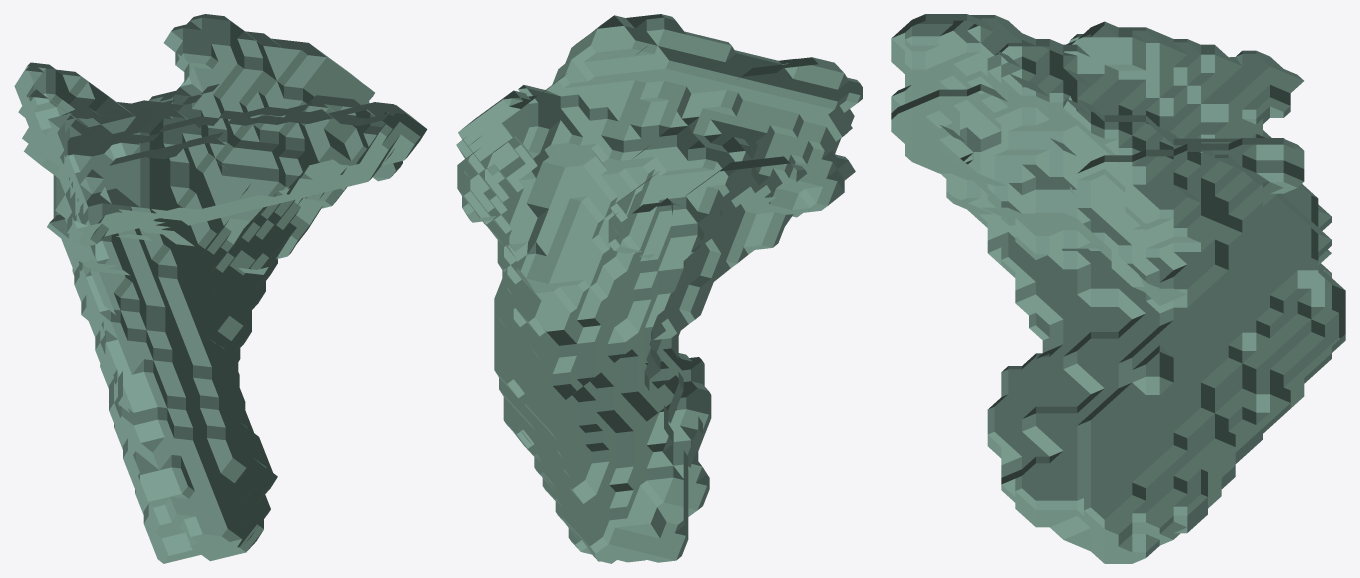
Rendered from region_0120_PPp__parvocellular_preoptic_nucleus__posterior_part_.glb.
3 views of the same model, side by side, from view 1: azimuth 30°, elevation 25°; view 2: azimuth 150°, elevation 25°; view 3: azimuth 270°, elevation 25° (orthographic). The views are drawn at different scales.
Visible parts, largest first — view 1: world; view 2: world; view 3: world.
Part boxes in pixels (x1,y1,x2,y2): world: (14, 14, 427, 563); world: (456, 14, 862, 563); world: (891, 14, 1345, 563).
Size of the model in its own units: 0.24 by 0.304 by 0.264.
